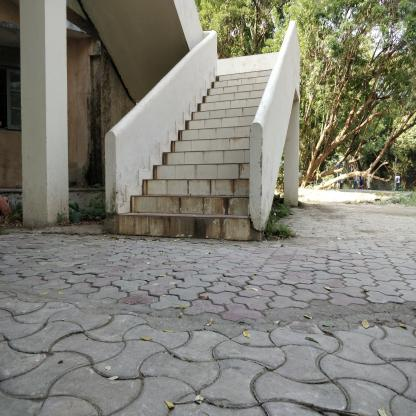stairs: (218, 71, 249, 250)
